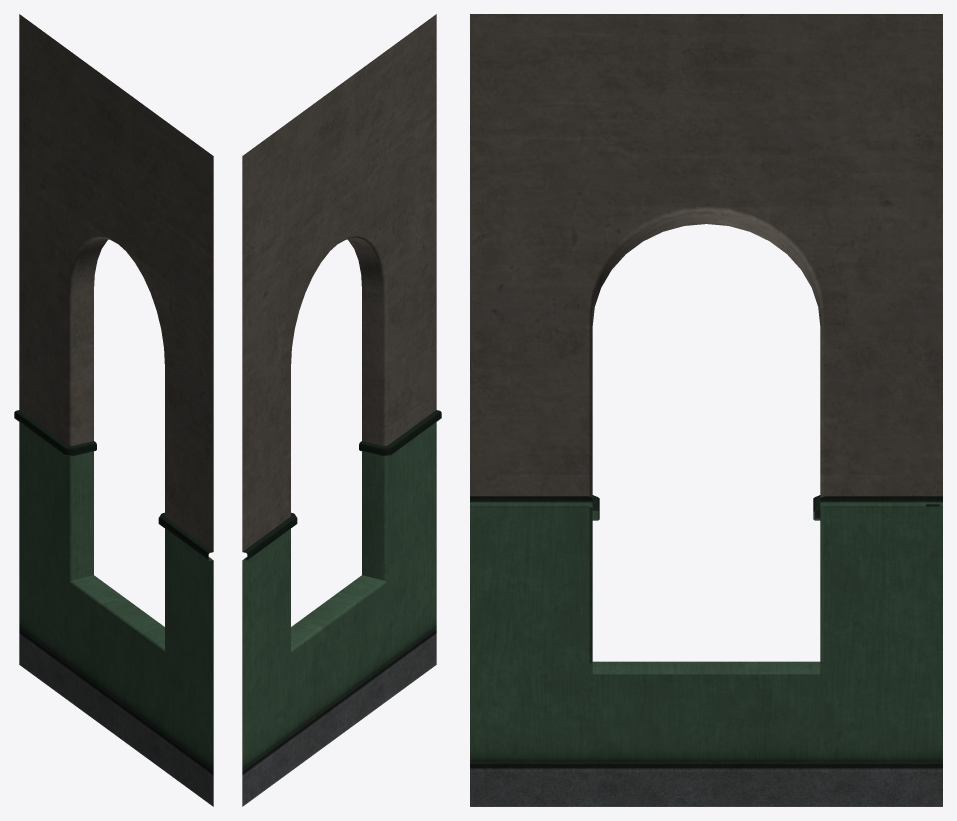
File: Psychiatric_Ward_Infirmary_Wall_2m_Window_A_Bare.glb
The picture shows the model from 3 angles, left to right: view 1: azimuth 30°, elevation 25°; view 2: azimuth 150°, elevation 25°; view 3: azimuth 270°, elevation 25°; orthographic projection. The views are drawn at different scales.
Parts seen in each view (by area): view 1: Psychiatric_Ward_Infirmary_Wall_2m_Window_A_Bare; view 2: Psychiatric_Ward_Infirmary_Wall_2m_Window_A_Bare; view 3: Psychiatric_Ward_Infirmary_Wall_2m_Window_A_Bare.
Boxes of the visible parts, x1,y1,x2,y2 form: Psychiatric_Ward_Infirmary_Wall_2m_Window_A_Bare: (14,14,213,806); Psychiatric_Ward_Infirmary_Wall_2m_Window_A_Bare: (242,14,441,806); Psychiatric_Ward_Infirmary_Wall_2m_Window_A_Bare: (470,14,942,806).
Size of the model in its own units: 0.1737 by 3.7 by 2.
Materials: 2 (2 with a texture image).
